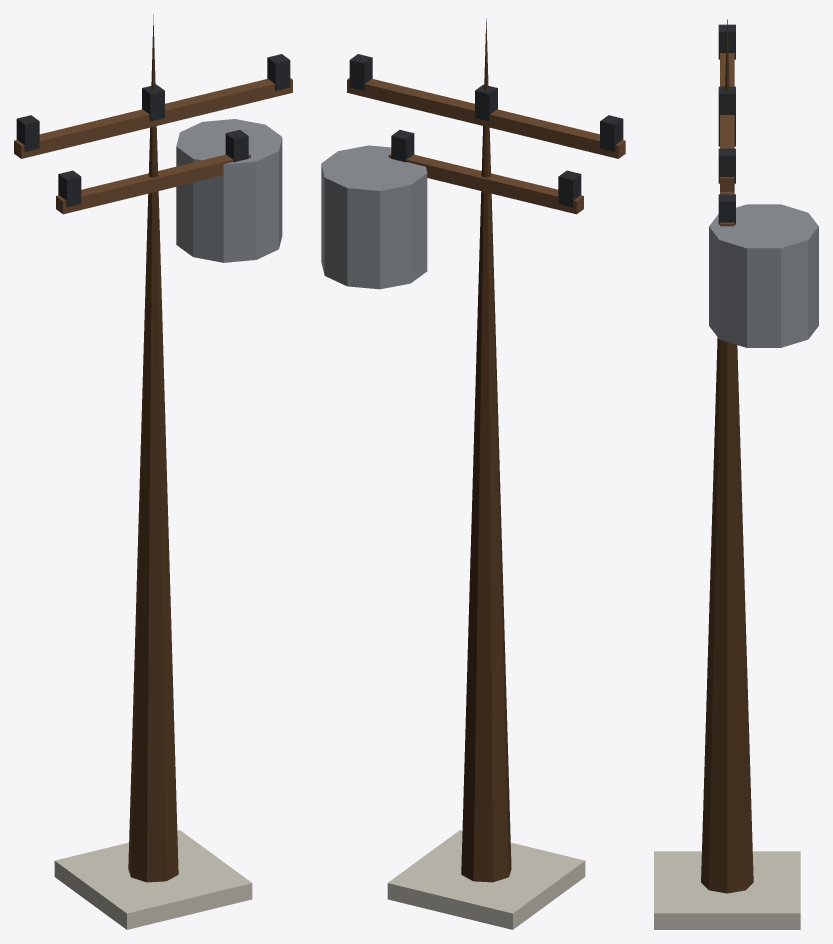
Rendered from prop.utility-pole.glb.
3 views of the same model, side by side, from view 1: azimuth 30°, elevation 25°; view 2: azimuth 150°, elevation 25°; view 3: azimuth 270°, elevation 25° (orthographic).
Visible parts, largest first — view 1: prop.utility-pole; view 2: prop.utility-pole; view 3: prop.utility-pole.
Boxes of the visible parts, x1,y1,x2,y2 form: prop.utility-pole: [14, 14, 292, 929]; prop.utility-pole: [321, 18, 625, 929]; prop.utility-pole: [654, 19, 818, 929].
Bounding box in the file's own units: 2.63 × 8 × 1.35.
